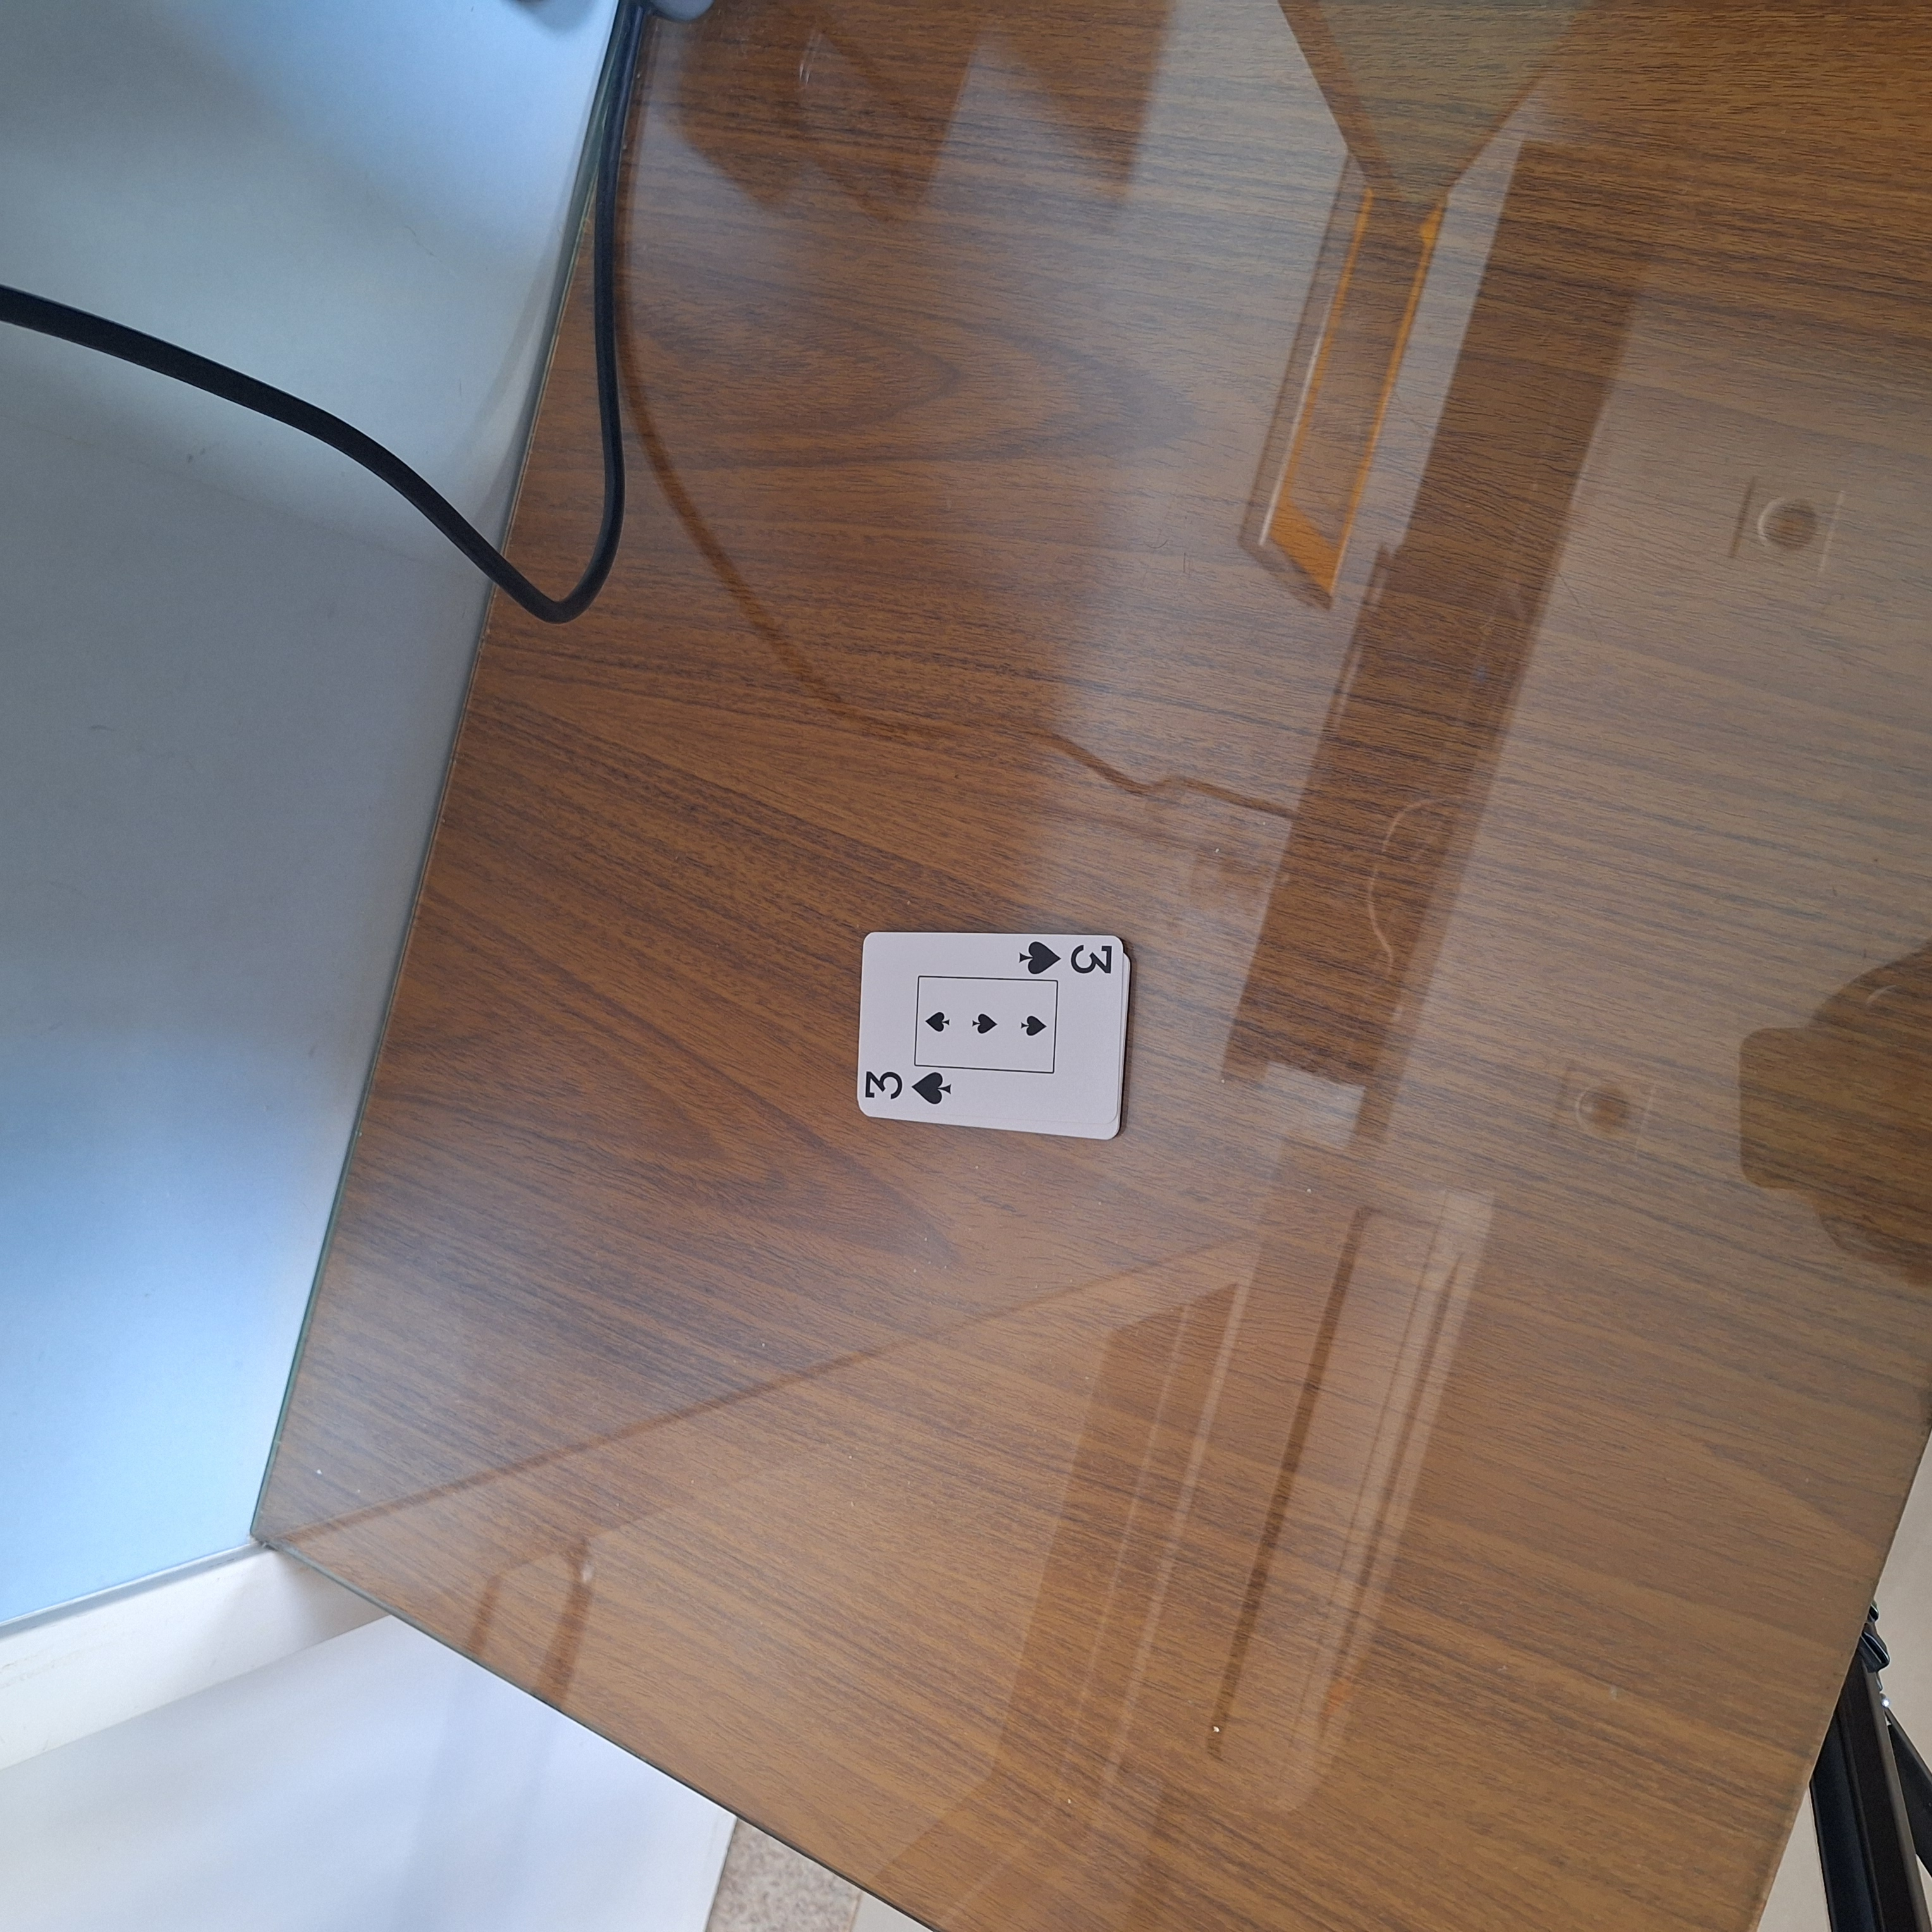3E: (853, 1058, 957, 1118), (1014, 932, 1123, 987)
